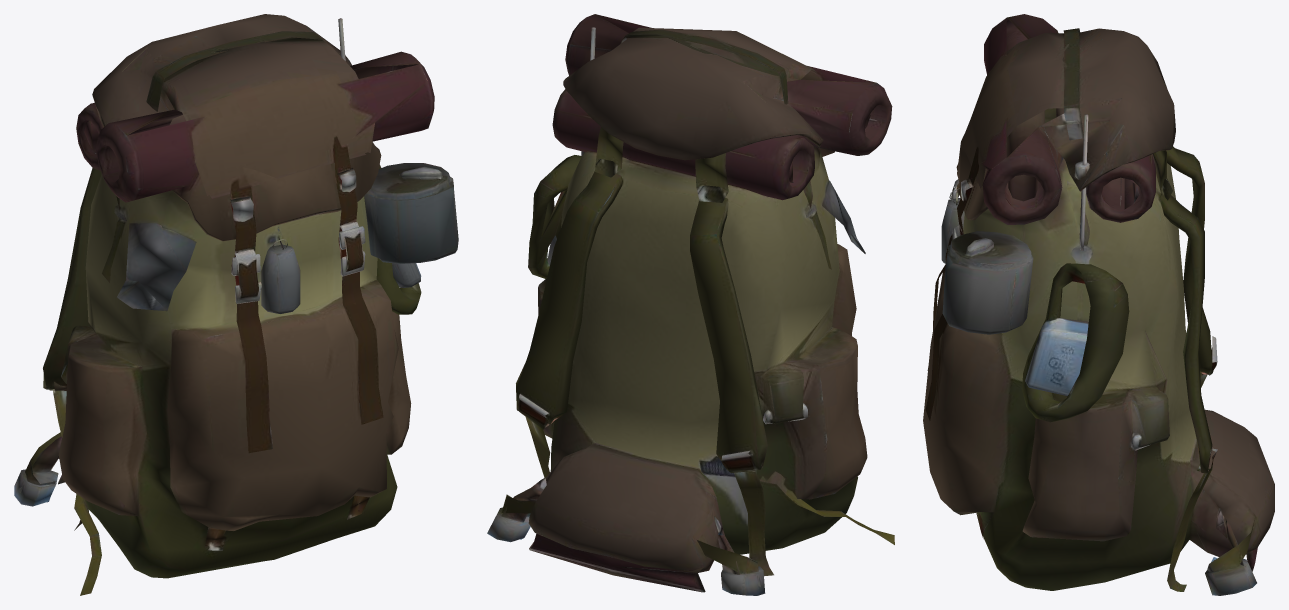
The model's file is itm_runner_backpack.glb.
The picture shows the model from 3 angles, left to right: view 1: azimuth 30°, elevation 25°; view 2: azimuth 150°, elevation 25°; view 3: azimuth 270°, elevation 25°; orthographic projection. The views are drawn at different scales.
Size of the model in its own units: 0.6914 by 0.9536 by 0.6133.
1 material, 1 textured.
